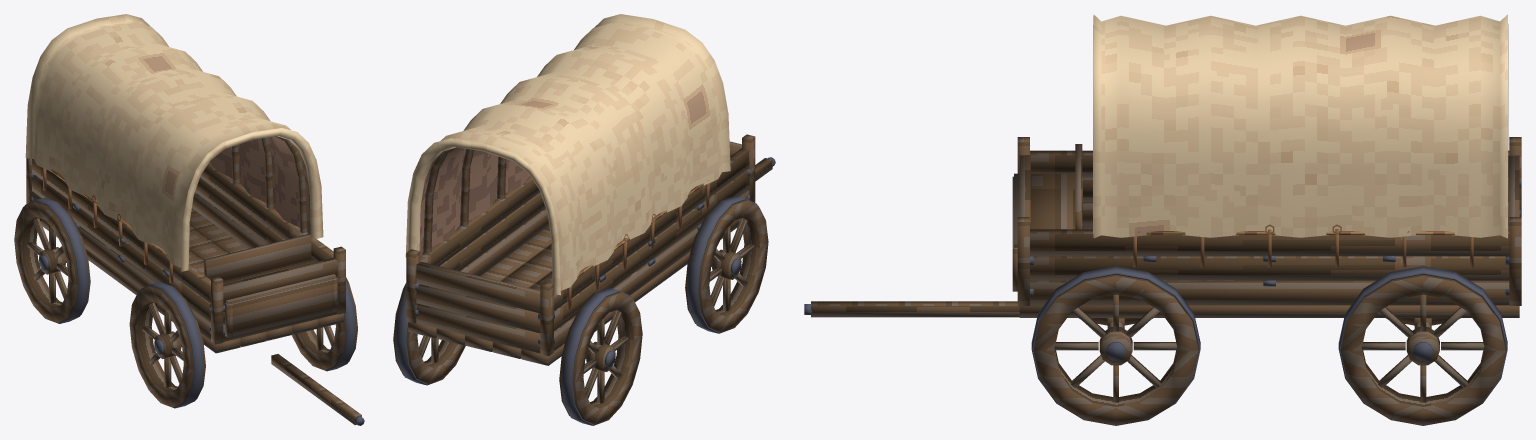
The model's file is party_wagon.glb.
3 renders of one model, left to right at view 1: azimuth 30°, elevation 25°; view 2: azimuth 150°, elevation 25°; view 3: azimuth 270°, elevation 25°, orthographic. The views are drawn at different scales.
Parts seen in each view (by area): view 1: CoveredWagon; view 2: CoveredWagon; view 3: CoveredWagon.
Part boxes in pixels (bbox=[...]): CoveredWagon: bbox=[14, 14, 364, 425]; CoveredWagon: bbox=[393, 14, 775, 425]; CoveredWagon: bbox=[804, 14, 1521, 425].
Bounding box in the file's own units: 1.87 × 2.69 × 5.09.
Materials: 6 (6 with a texture image).
